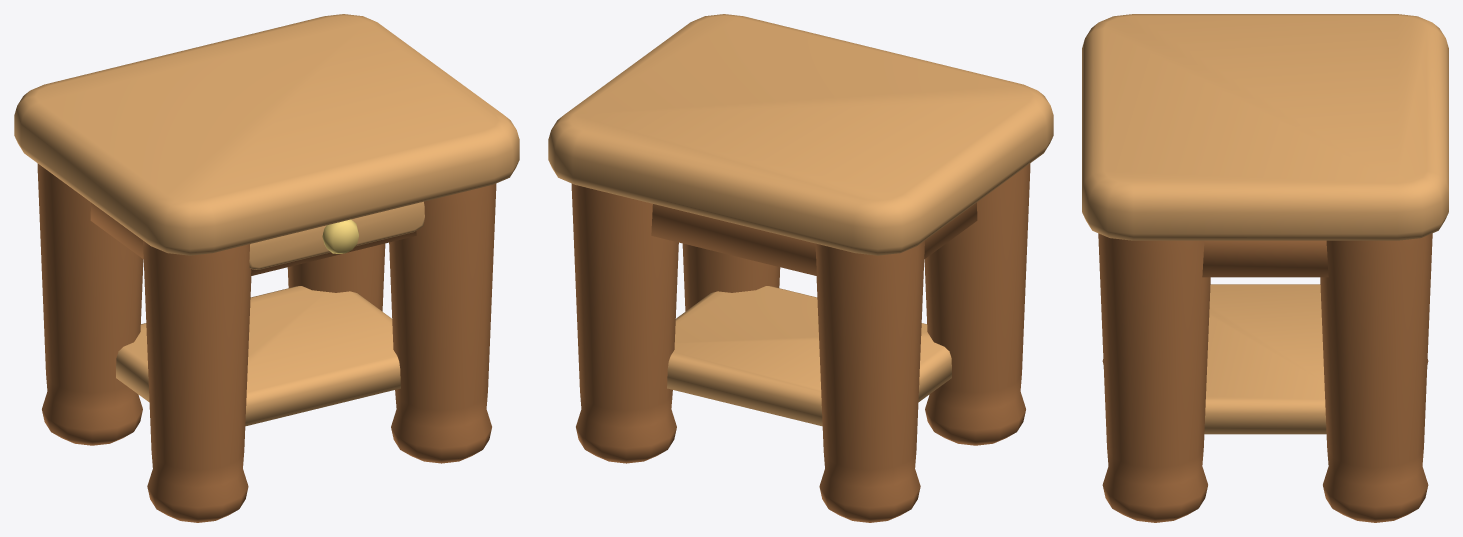
Rendered from ShopSideTable.fbx.
3 renders of one model, left to right at view 1: azimuth 30°, elevation 25°; view 2: azimuth 150°, elevation 25°; view 3: azimuth 270°, elevation 25°, orthographic. The views are drawn at different scales.
Parts seen in each view (by area): view 1: ShopSideTable; view 2: ShopSideTable; view 3: ShopSideTable.
Boxes of the visible parts, box(x1,y1,x2,y2) form: ShopSideTable: box(14, 14, 519, 522); ShopSideTable: box(548, 14, 1053, 522); ShopSideTable: box(1082, 14, 1448, 522).
Size of the model in its own units: 0.6 by 0.52 by 0.5.
